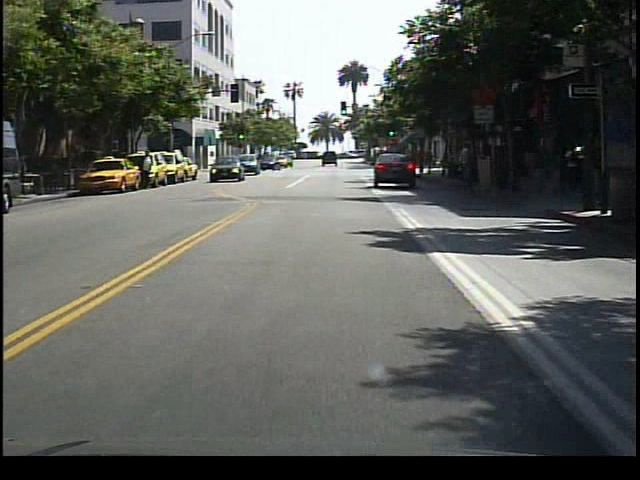person: (455, 137, 477, 197), (140, 148, 157, 194)
